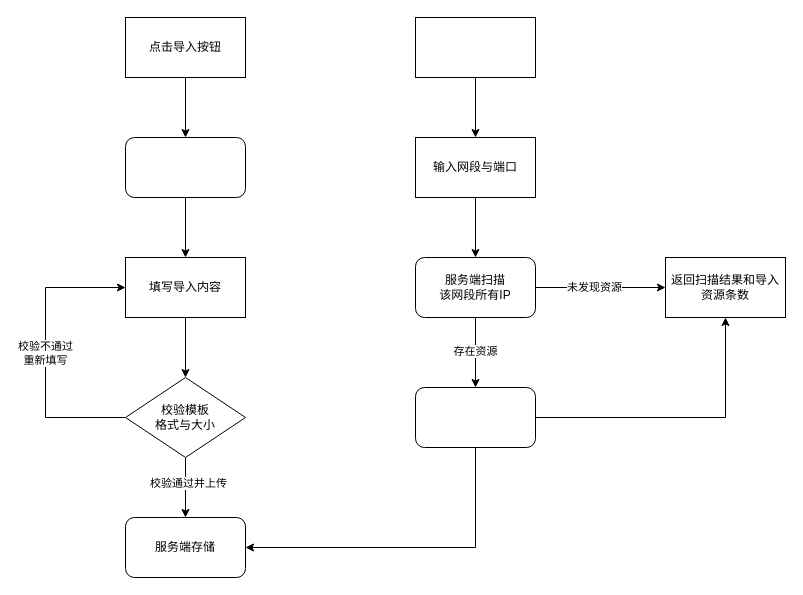
The diagram is 803 pixels wide and 595 high, and some of its shapes have lost their labels. The shapes that lost their labels are listed below. From the top down, each one's centre as x and y in pixels, then its label:
pixel 475 47: 点击自动发现按钮
pixel 185 167: 基于资源模型生成Excel模板
pixel 475 417: 根据资源模型统一格式化发现的资源数据
